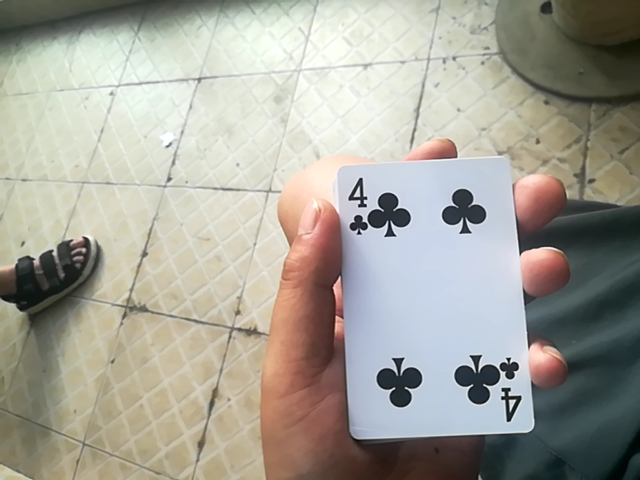mh 4: (334, 151, 550, 446)
